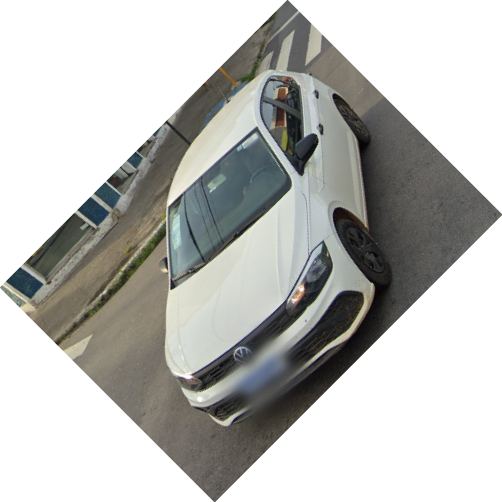car: (161, 68, 386, 429)
